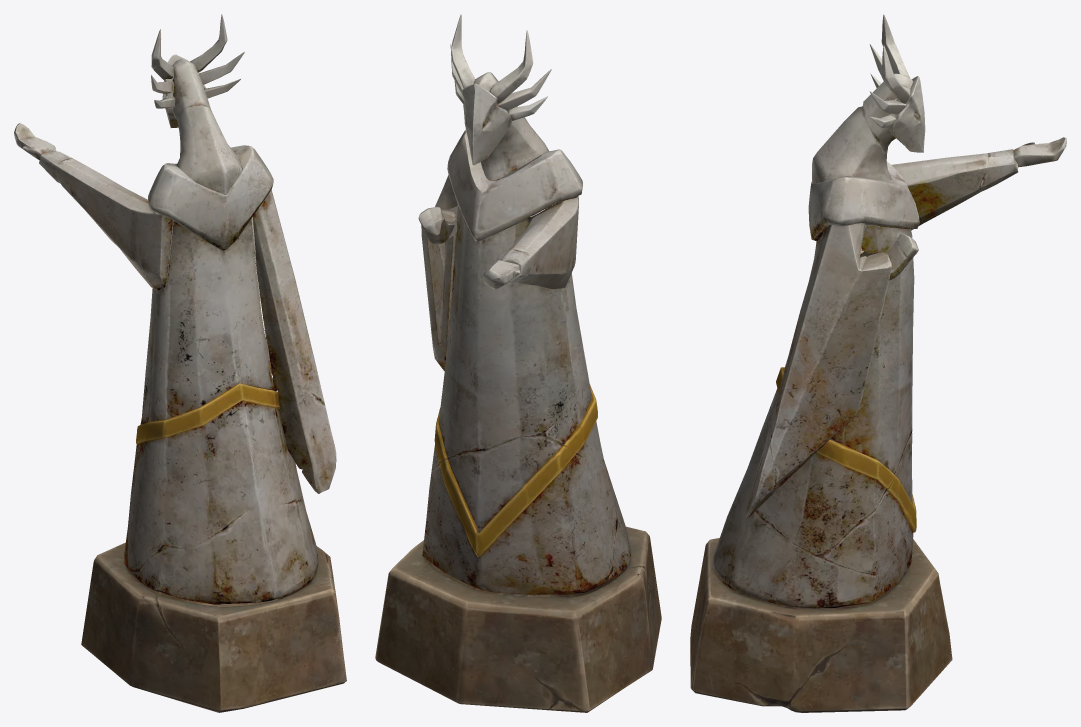
3 renders of one model, left to right at view 1: azimuth 30°, elevation 25°; view 2: azimuth 150°, elevation 25°; view 3: azimuth 270°, elevation 25°, orthographic. The views are drawn at different scales.
Parts seen in each view (by area): view 1: SM_Dec_Dragonkin_Statue_02v1_LOD0; view 2: SM_Dec_Dragonkin_Statue_02v1_LOD0; view 3: SM_Dec_Dragonkin_Statue_02v1_LOD0.
Boxes of the visible parts, x1=… form: SM_Dec_Dragonkin_Statue_02v1_LOD0: x1=14, y1=14, x2=346, y2=712; SM_Dec_Dragonkin_Statue_02v1_LOD0: x1=375, y1=14, x2=661, y2=712; SM_Dec_Dragonkin_Statue_02v1_LOD0: x1=690, y1=14, x2=1066, y2=712.
Bounding box in the file's own units: 0.8632 × 2.41 × 1.3.
1 material, 1 textured.
